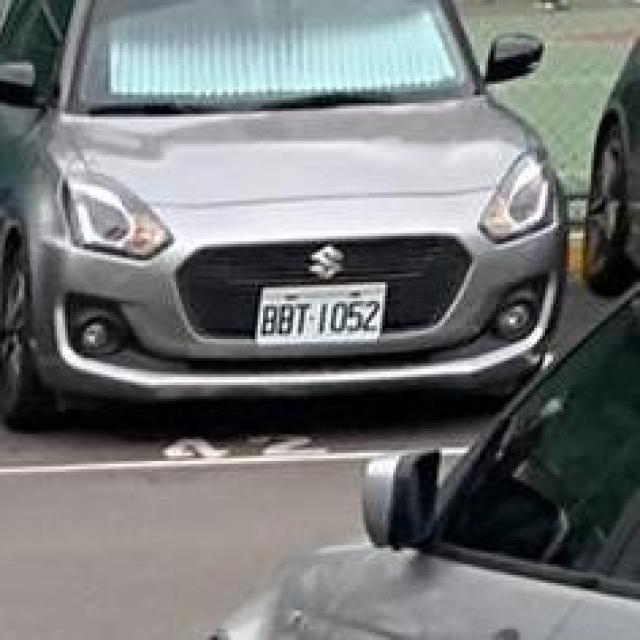W: (256, 282, 388, 344)
